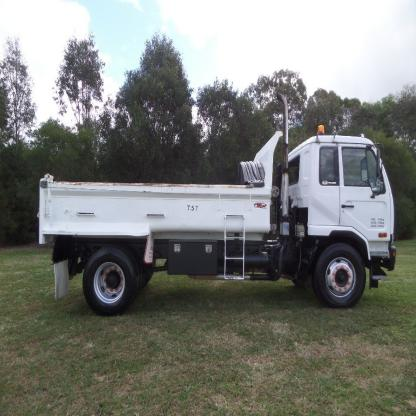dump_truck: (29, 108, 402, 336)
